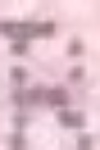R: (0, 0, 99, 149)
